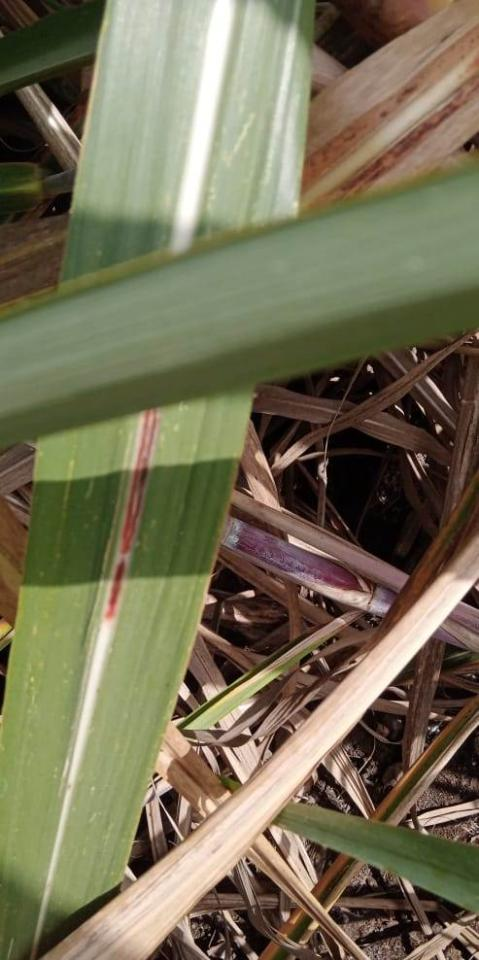RedRot: (101, 405, 160, 624)
